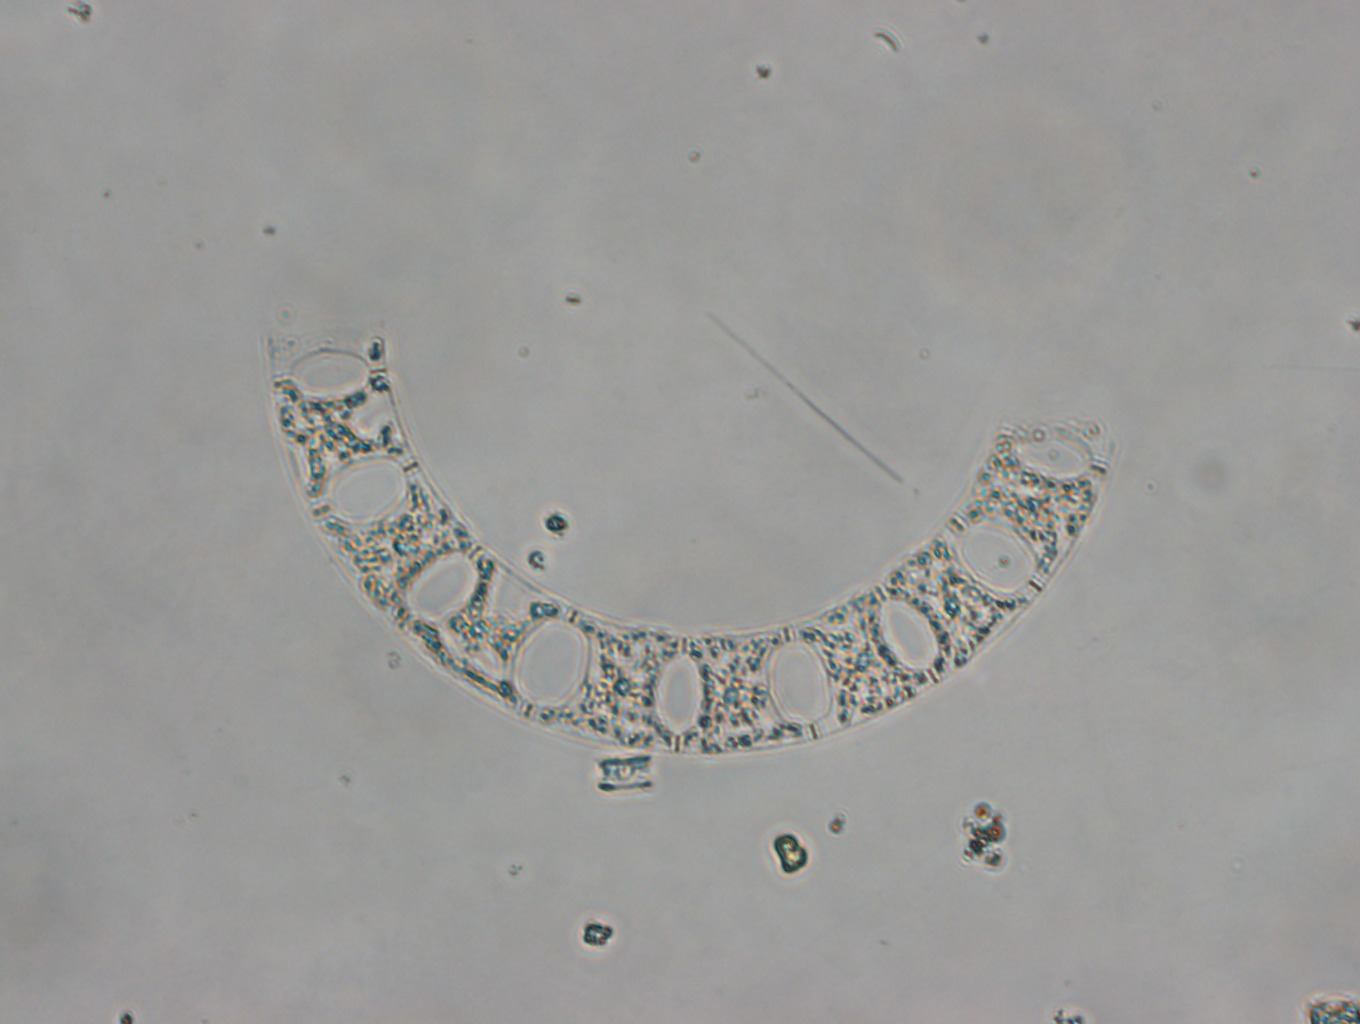eucampia: (263, 323, 1122, 756)
